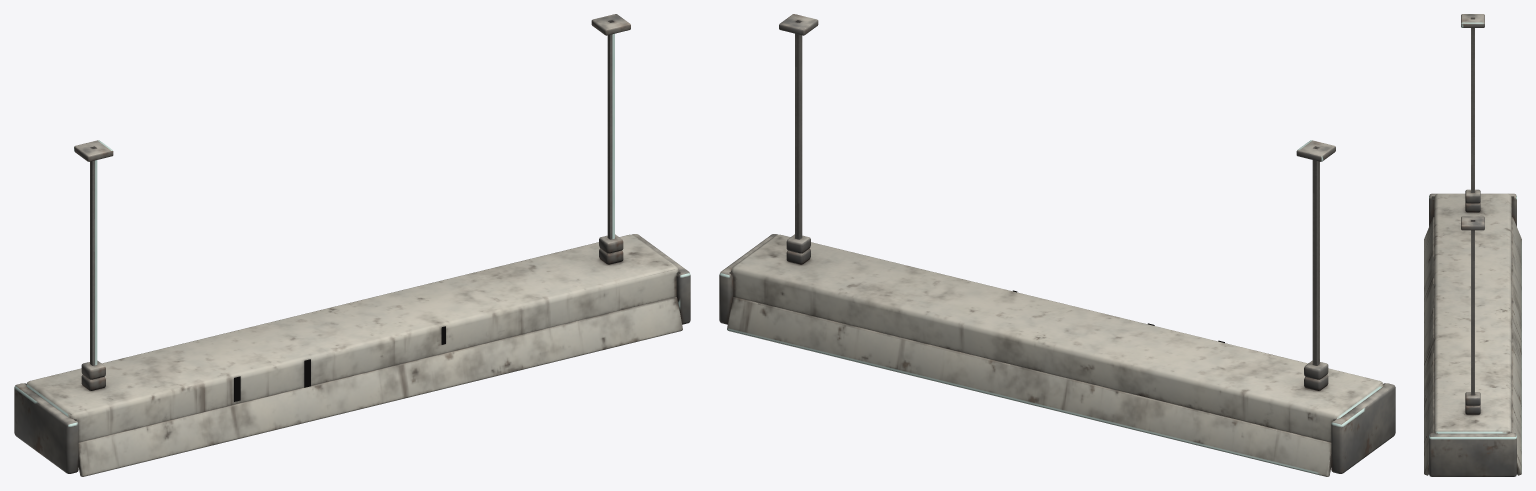
Rendered from light_strip.fbx.
3 views of the same model, side by side, from view 1: azimuth 30°, elevation 25°; view 2: azimuth 150°, elevation 25°; view 3: azimuth 270°, elevation 25° (orthographic). The views are drawn at different scales.
Parts seen in each view (by area): view 1: Body; view 2: Body; view 3: Body.
Part boxes in pixels (<box>): Body: <box>14,14,690,476</box>; Body: <box>719,14,1395,476</box>; Body: <box>1424,14,1521,476</box>.
Size of the model in its own units: 8.2 by 3.74 by 1.39.
Materials: 1 (1 with a texture image).
